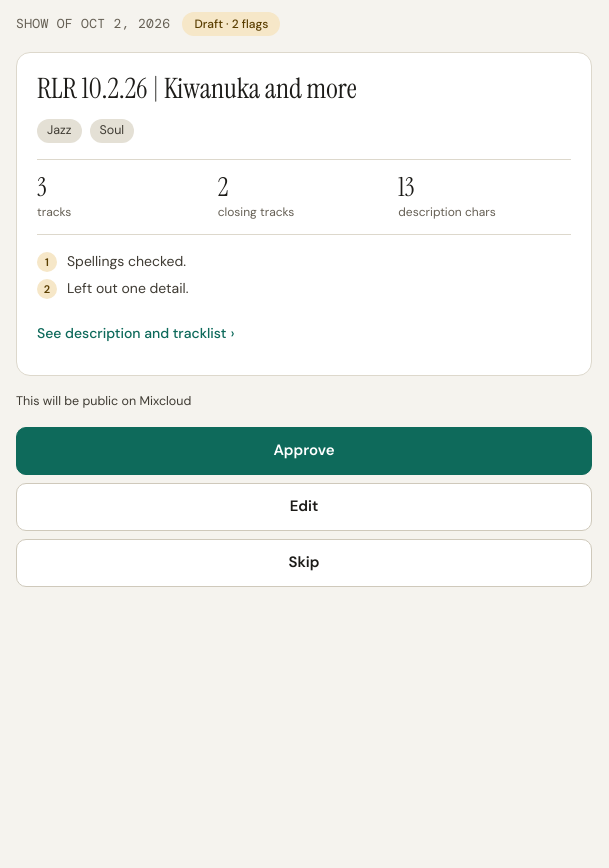
Test: PackageDecision: edit description › a refused save shows why and keeps the text; Cancel puts the description back
Click the button "See description and tracklist ›" at (136, 333), box top-left (37, 311), bottom-right (234, 355)
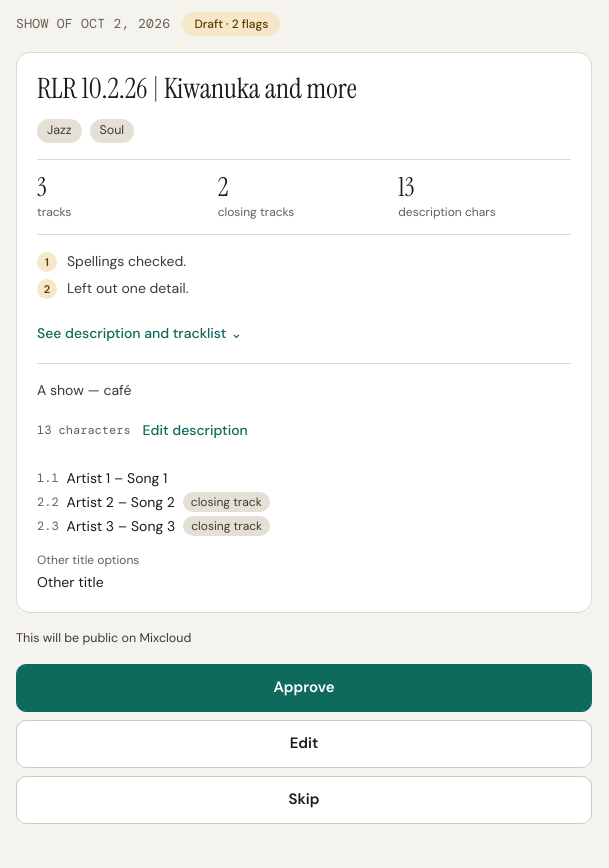
Click the button "Edit description" at (195, 430), box top-left (143, 408), bottom-right (248, 452)
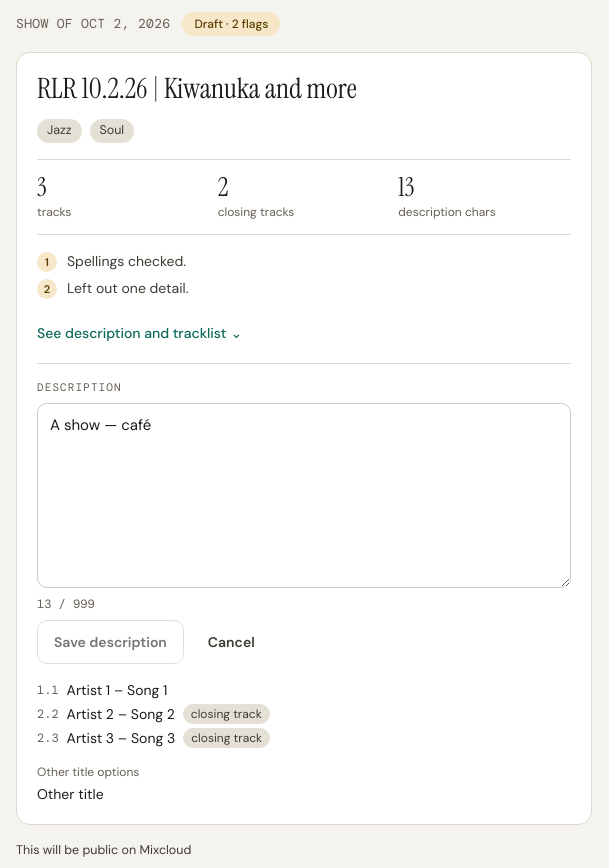
Replace the text in the text box labelled "Description" with "Thanks to someone private." at (304, 496), box top-left (37, 403), bottom-right (571, 588)
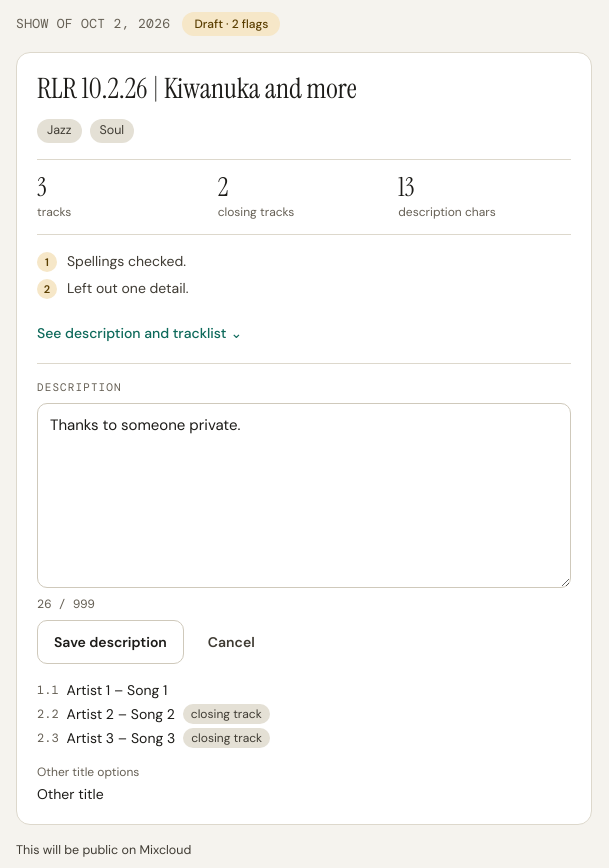
Click the button "Save description" at (110, 642), box top-left (37, 620), bottom-right (184, 664)
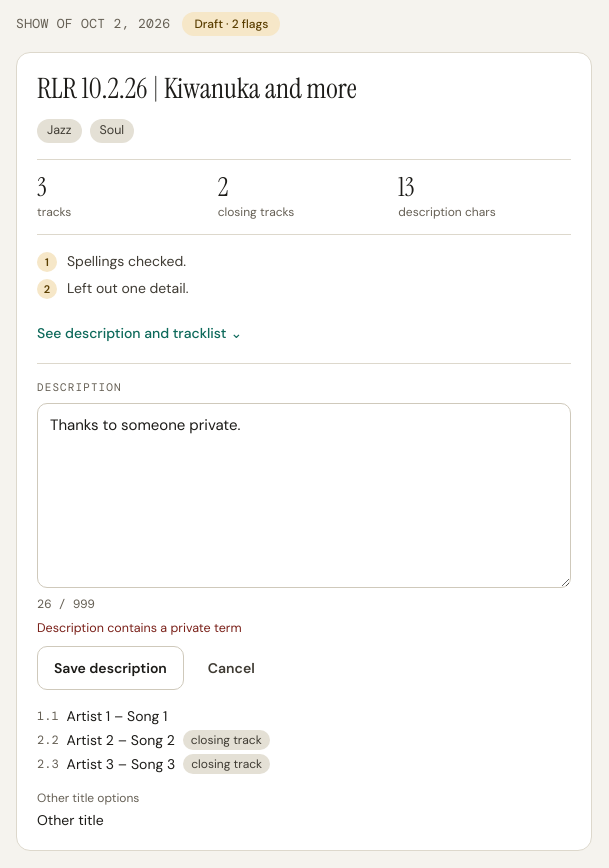
Expected: the message reads "Description contains a private term", top-left (37, 620), bottom-right (242, 636)
Click the button "Cancel" at (231, 668), box top-left (192, 646), bottom-right (271, 690)
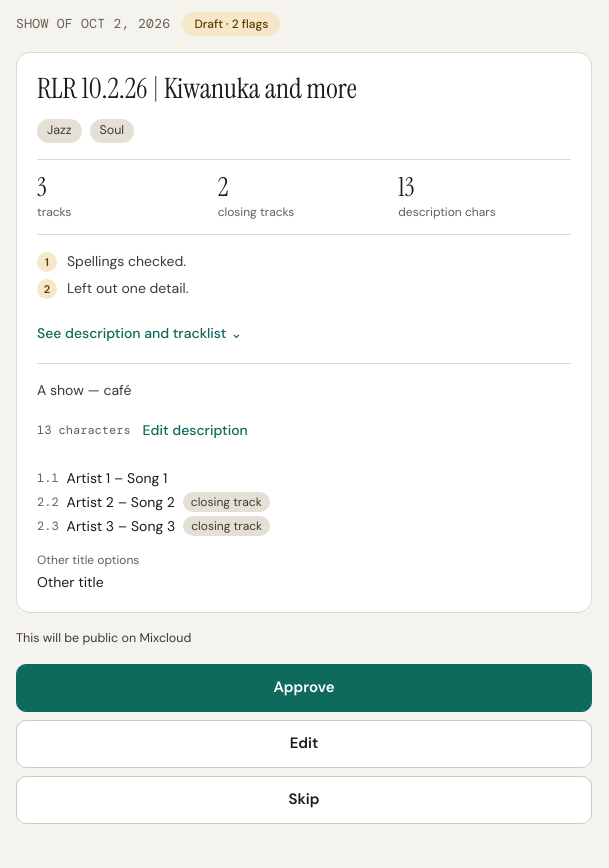
Expected: the text "A show — café" is shown, top-left (37, 381), bottom-right (132, 399)
